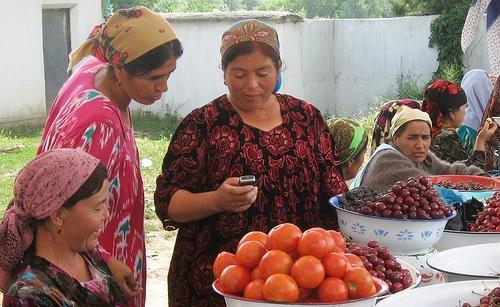cherry: (390, 282, 404, 294), (384, 258, 395, 272), (373, 265, 387, 276), (378, 248, 390, 260), (400, 276, 412, 288), (484, 224, 500, 232), (392, 184, 402, 196), (377, 202, 387, 214), (368, 254, 378, 266), (418, 176, 428, 187), (364, 261, 374, 271), (390, 272, 400, 282), (417, 210, 427, 220), (423, 190, 433, 200), (430, 210, 440, 220), (400, 189, 410, 198), (376, 271, 386, 280), (442, 208, 452, 217), (429, 202, 439, 211), (408, 205, 418, 214), (353, 248, 363, 256), (368, 240, 378, 248), (392, 204, 402, 212), (478, 224, 488, 232), (402, 268, 411, 276), (481, 298, 490, 306), (356, 200, 366, 207), (493, 296, 500, 306), (407, 180, 415, 188), (488, 222, 496, 230), (492, 218, 500, 226), (488, 208, 496, 216), (410, 188, 418, 196), (418, 196, 426, 204), (490, 200, 498, 208), (436, 200, 446, 206), (396, 196, 404, 203), (462, 302, 472, 307), (478, 215, 485, 222), (494, 289, 500, 297), (374, 196, 382, 202), (350, 244, 358, 250), (490, 194, 498, 200), (491, 195, 500, 200), (358, 207, 364, 214), (414, 202, 421, 208), (381, 196, 387, 203), (471, 226, 478, 232), (454, 184, 460, 190), (369, 203, 375, 209), (375, 212, 382, 217), (492, 288, 500, 292), (425, 214, 430, 220), (496, 201, 500, 208), (458, 184, 464, 188), (400, 215, 406, 219), (442, 184, 447, 188), (480, 187, 486, 190), (402, 210, 406, 214), (470, 180, 474, 184), (466, 183, 471, 185), (484, 214, 486, 218)
grape: (372, 264, 386, 275), (403, 196, 415, 208), (378, 248, 390, 259), (384, 259, 395, 271), (400, 188, 411, 200), (389, 271, 400, 283), (372, 258, 386, 266), (401, 278, 412, 288), (392, 282, 402, 293), (392, 210, 404, 219), (419, 176, 429, 186), (430, 210, 440, 220), (408, 204, 418, 214), (365, 200, 375, 210), (392, 184, 402, 194), (363, 261, 373, 271), (382, 209, 393, 218), (385, 268, 393, 280), (442, 208, 452, 217), (428, 202, 438, 211), (353, 248, 363, 256), (418, 210, 426, 219), (401, 203, 409, 212), (362, 206, 370, 214), (398, 181, 406, 189), (437, 197, 445, 205), (362, 250, 370, 258), (394, 199, 403, 206), (394, 262, 401, 270), (381, 196, 387, 204), (410, 212, 416, 220), (408, 177, 417, 182), (448, 205, 454, 212), (402, 214, 409, 220), (418, 197, 426, 202), (418, 191, 424, 197), (494, 207, 498, 216), (426, 214, 432, 220), (375, 212, 382, 217), (426, 189, 434, 193), (345, 244, 350, 250), (405, 186, 411, 191), (349, 207, 354, 211), (372, 210, 375, 216), (496, 195, 500, 198)
tomato: (266, 223, 302, 254), (262, 274, 300, 302), (218, 265, 252, 295), (296, 231, 328, 260), (236, 240, 268, 269), (302, 227, 336, 254), (343, 268, 373, 298), (317, 277, 348, 303), (212, 252, 238, 280), (236, 231, 268, 251), (244, 279, 266, 301), (326, 230, 347, 252), (294, 286, 312, 303), (346, 254, 364, 268), (251, 265, 266, 281), (336, 246, 347, 258), (302, 298, 320, 304)
